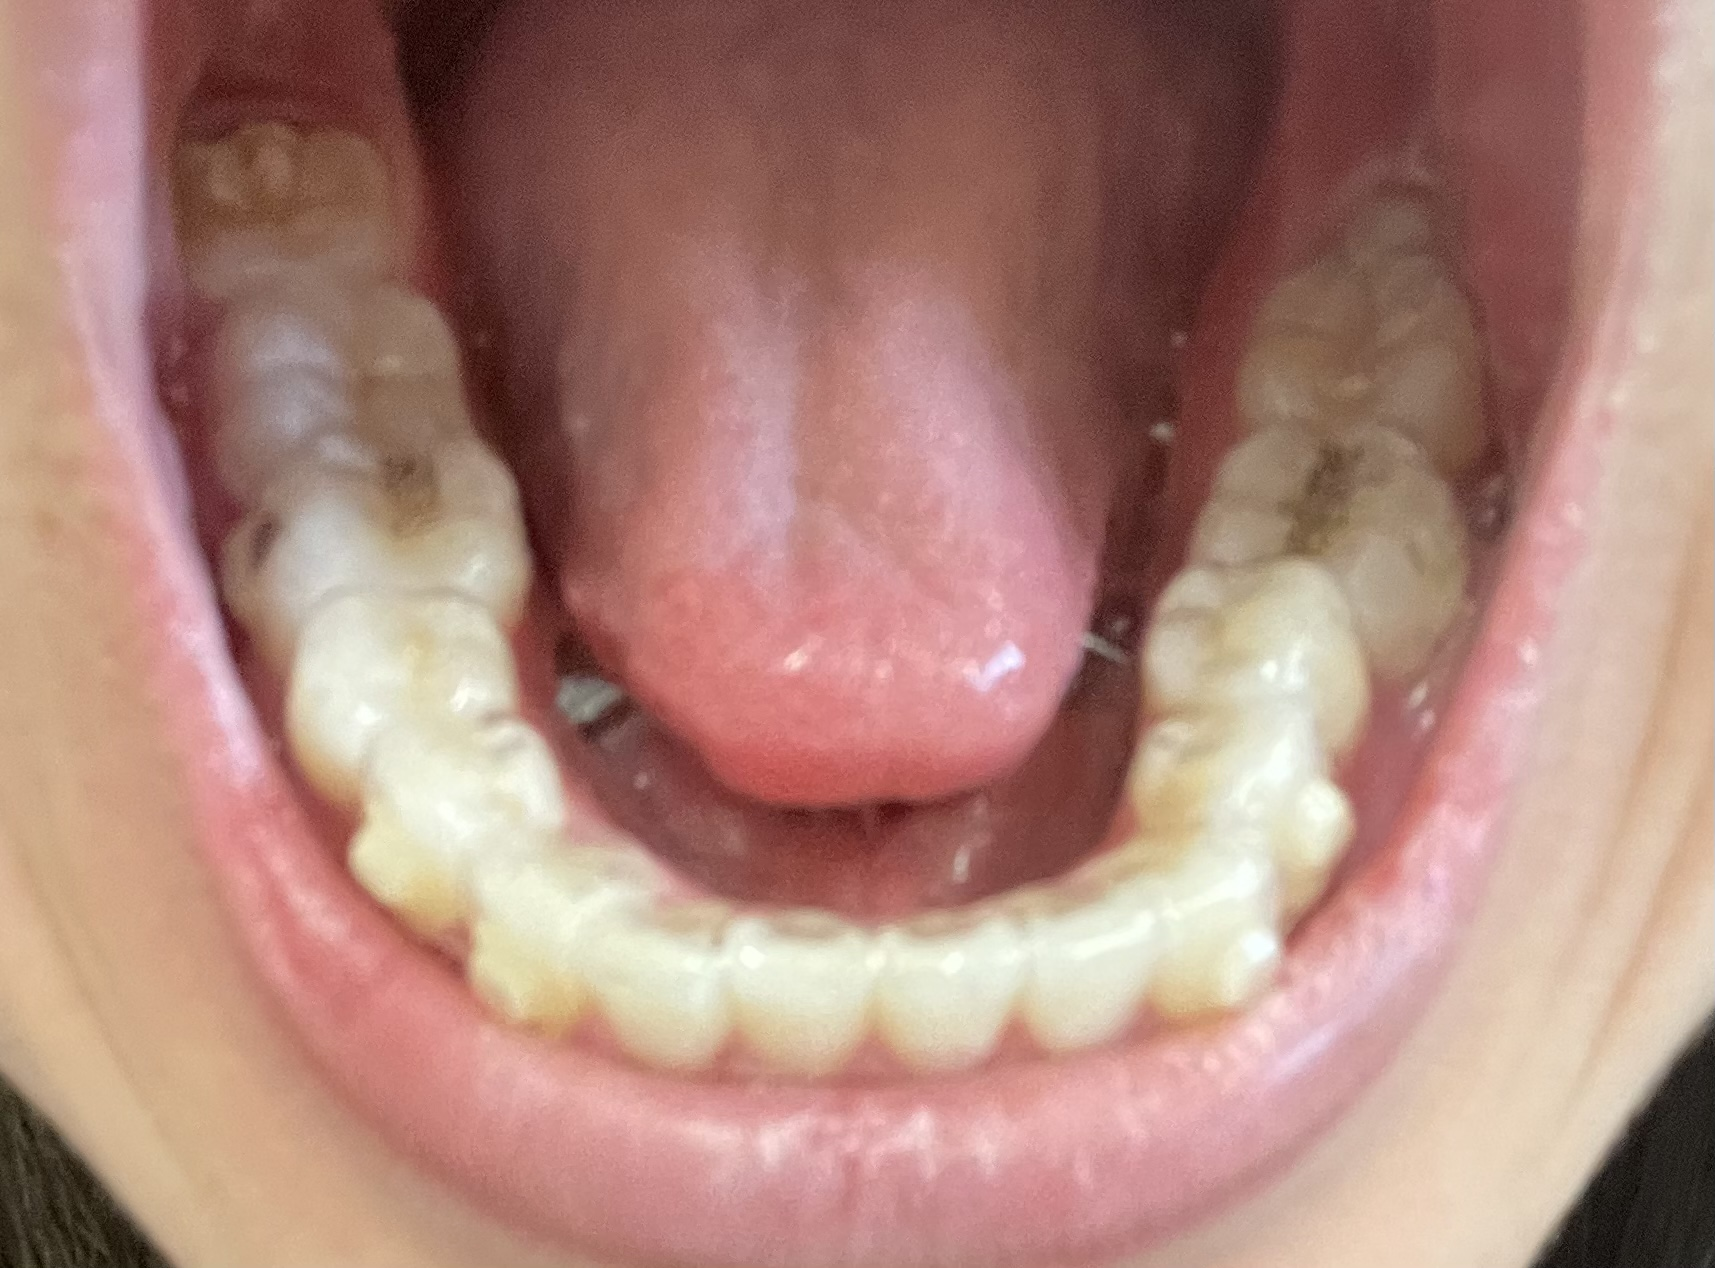teeth: (1200, 425, 1461, 667), (233, 432, 486, 654), (344, 715, 553, 931), (1149, 690, 1353, 911), (1152, 567, 1369, 755), (292, 598, 478, 791), (230, 277, 462, 432), (471, 842, 651, 1026), (1266, 249, 1457, 418), (193, 120, 378, 277), (599, 904, 727, 1072), (740, 906, 864, 1075), (1024, 902, 1157, 1047), (1165, 859, 1289, 1012), (887, 936, 1011, 1074)
